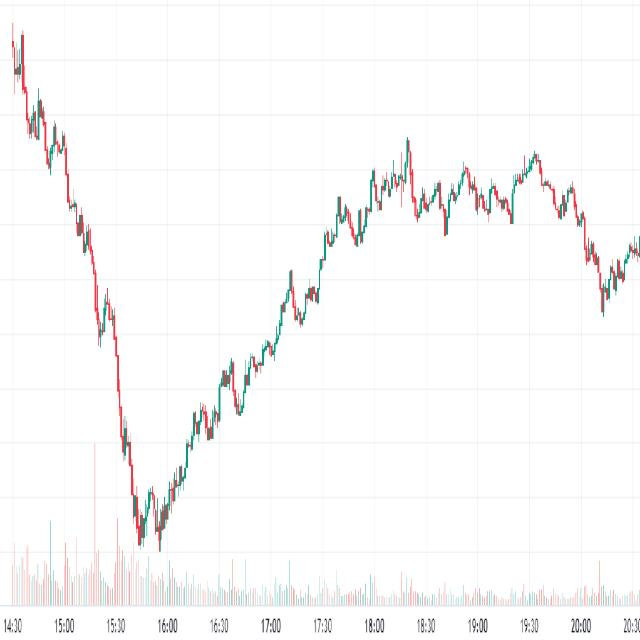Double-Bottom: (126, 450, 180, 558)
